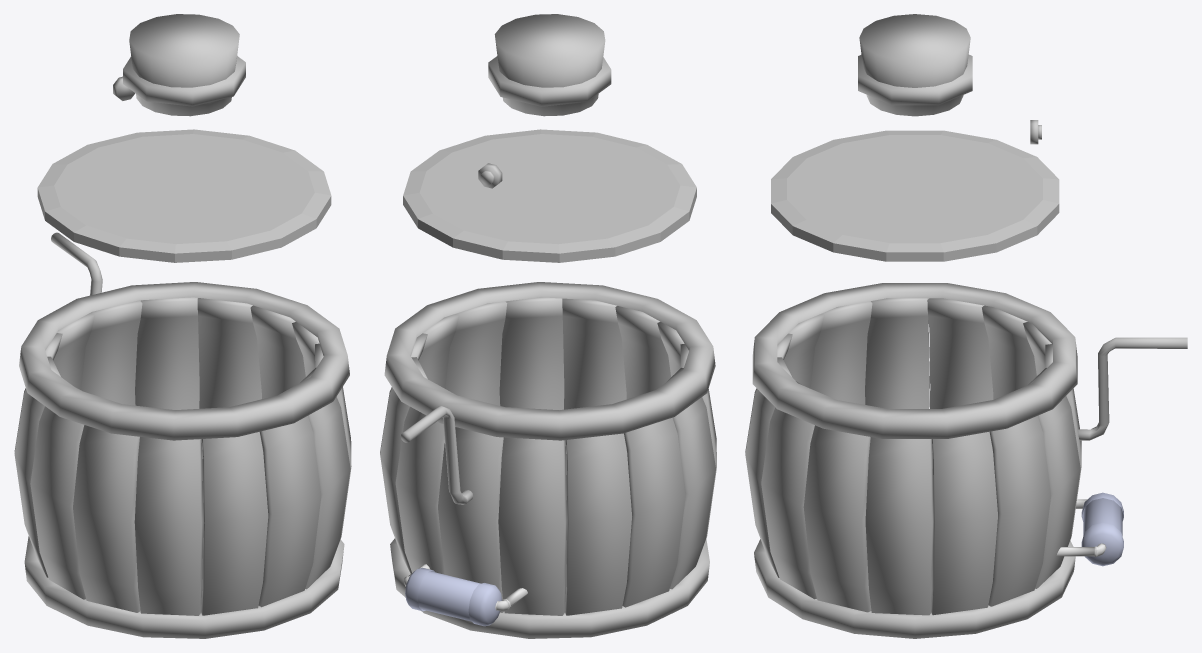
File: BarrelLP1.fbx
3 renders of one model, left to right at view 1: azimuth 30°, elevation 25°; view 2: azimuth 150°, elevation 25°; view 3: azimuth 270°, elevation 25°, orthographic.
Visible parts, largest first — view 1: plank.037, upper.003; view 2: plank.037, upper.003, glass bottle; view 3: plank.037, upper.003, glass bottle.
Part boxes in pixels (bbox=[...]): plank.037: bbox=[14, 14, 351, 638]; upper.003: bbox=[37, 129, 331, 262]; plank.037: bbox=[380, 14, 716, 638]; upper.003: bbox=[403, 129, 696, 262]; glass bottle: bbox=[417, 571, 480, 621]; plank.037: bbox=[745, 14, 1187, 638]; upper.003: bbox=[771, 130, 1059, 261]; glass bottle: bbox=[1083, 498, 1122, 535].
Bounding box in the file's own units: 340 × 593 × 445.
